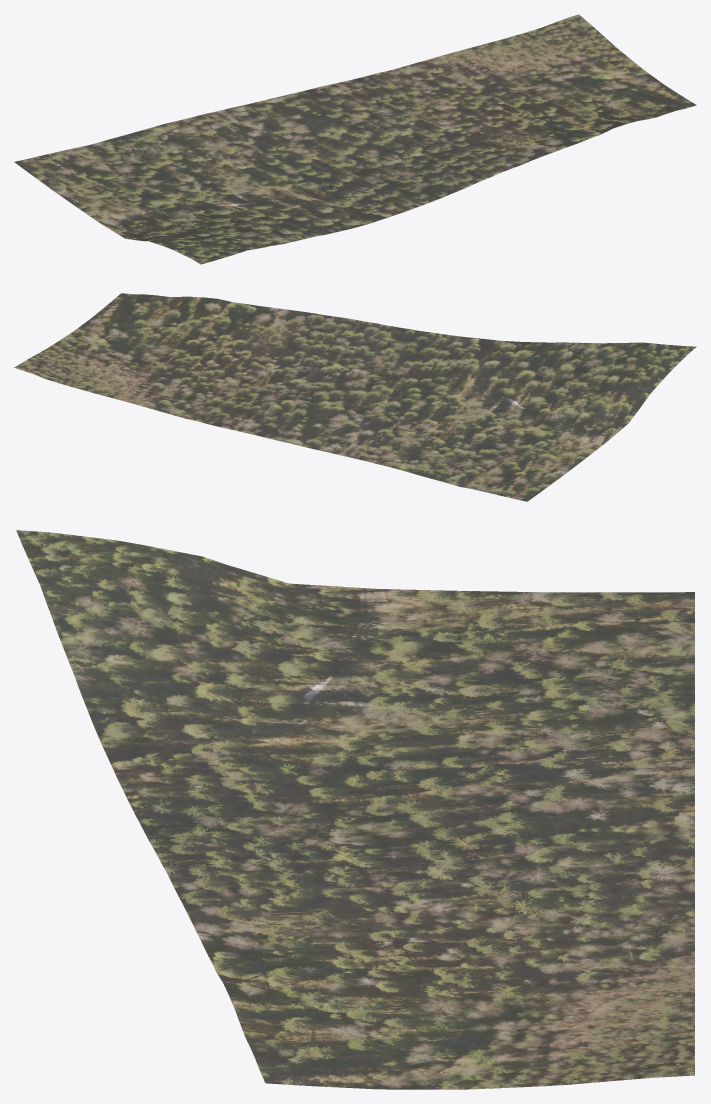
File: CM_Terrain_24493121_6813650.fbx
3 renders of one model, top to bottom at view 1: azimuth 30°, elevation 25°; view 2: azimuth 150°, elevation 25°; view 3: azimuth 270°, elevation 25°, orthographic. The views are drawn at different scales.
Visible parts, largest first — view 1: CM_Terrain_24493121_6813650_LOD0; view 2: CM_Terrain_24493121_6813650_LOD0; view 3: CM_Terrain_24493121_6813650_LOD0.
Part boxes in pixels (box(x1,y1,x2,y2)): CM_Terrain_24493121_6813650_LOD0: box(14, 14, 696, 264); CM_Terrain_24493121_6813650_LOD0: box(14, 293, 696, 501); CM_Terrain_24493121_6813650_LOD0: box(16, 530, 694, 1089).
Size of what is drawn, in the model's own units: 205 by 12.35 by 117.
